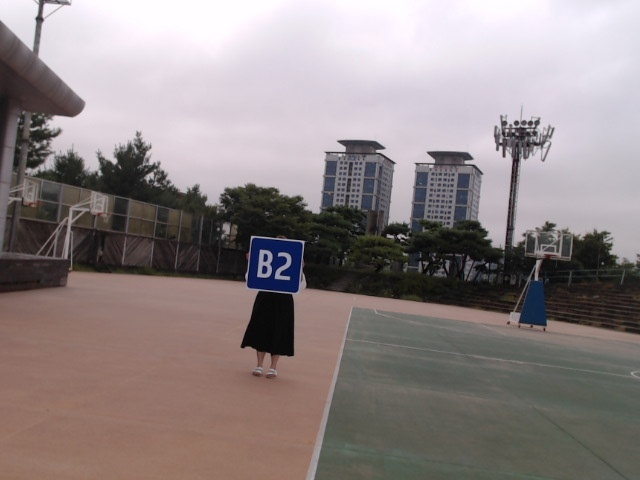delivery_b2: (246, 238, 305, 293)
